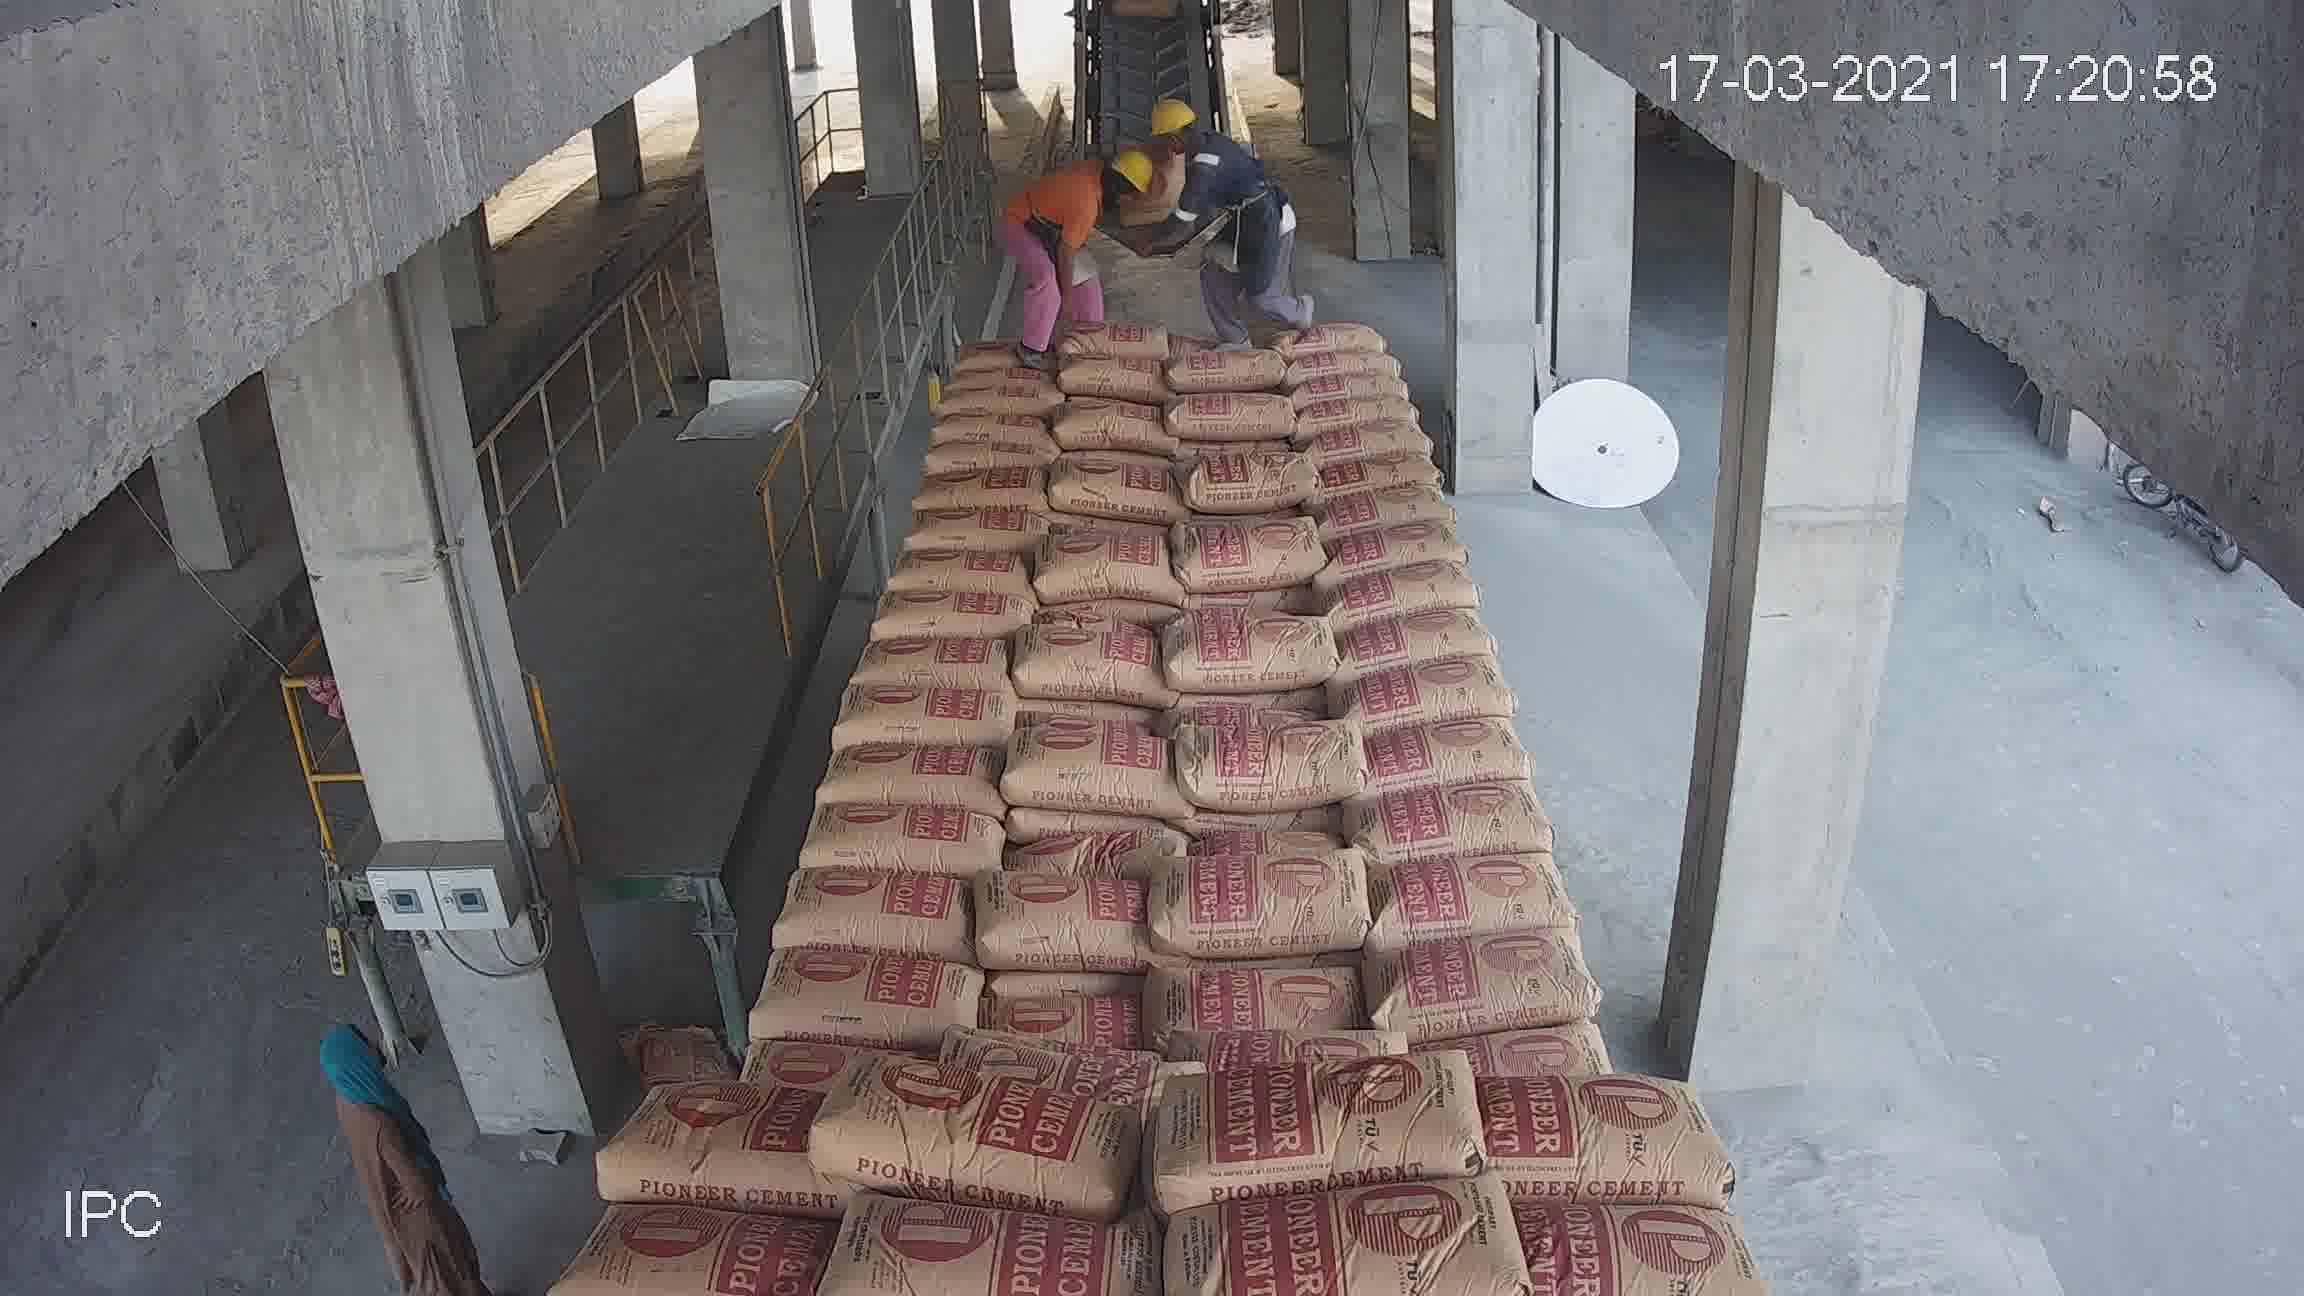bag: (1081, 286, 1161, 465), (1093, 14, 1203, 98)
bag_h: (802, 1025, 1166, 1206), (1119, 1054, 1473, 1222), (1136, 1174, 1551, 1291), (1147, 929, 1438, 1093), (1146, 824, 1443, 965), (870, 943, 1149, 1074), (1119, 706, 1423, 820), (1459, 1078, 1728, 1203), (635, 945, 878, 1082), (804, 1203, 1166, 1290), (897, 836, 1165, 948), (1445, 949, 1696, 1068), (570, 1076, 817, 1192), (1525, 1190, 1790, 1296), (570, 1185, 836, 1285), (676, 850, 916, 956), (1431, 848, 1639, 957), (892, 763, 1135, 850), (715, 767, 900, 878), (995, 642, 1184, 736), (1397, 755, 1581, 847), (1351, 650, 1533, 734), (1324, 554, 1476, 633), (1356, 612, 1505, 687), (1381, 711, 1537, 779), (1014, 563, 1166, 631), (793, 717, 921, 788), (1355, 498, 1465, 579), (1324, 481, 1472, 540), (1032, 533, 1184, 585), (1021, 628, 1180, 676), (1324, 415, 1427, 467), (1329, 449, 1454, 491), (1321, 312, 1397, 347), (1347, 350, 1404, 385)
belt: (1011, 5, 1317, 529)
